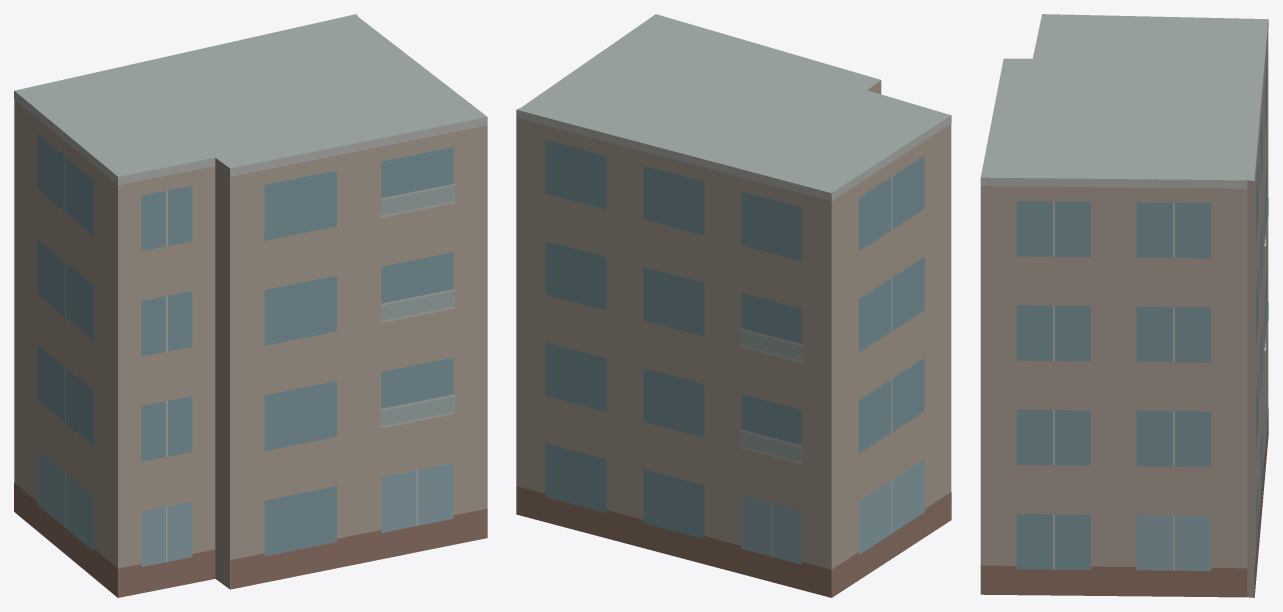
File: survey-upis-33027900.glb
3 views of the same model, side by side, from view 1: azimuth 30°, elevation 25°; view 2: azimuth 150°, elevation 25°; view 3: azimuth 270°, elevation 25° (orthographic). The views are drawn at different scales.
Visible parts, largest first — view 1: survey-upis-33027900.tmp; view 2: survey-upis-33027900.tmp; view 3: survey-upis-33027900.tmp.
Boxes of the visible parts, x1,y1,x2,y2 form: survey-upis-33027900.tmp: (14,14,487,597); survey-upis-33027900.tmp: (516,14,951,597); survey-upis-33027900.tmp: (980,14,1268,597).
Bounding box in the file's own units: 10.48 × 12.2 × 7.64.
